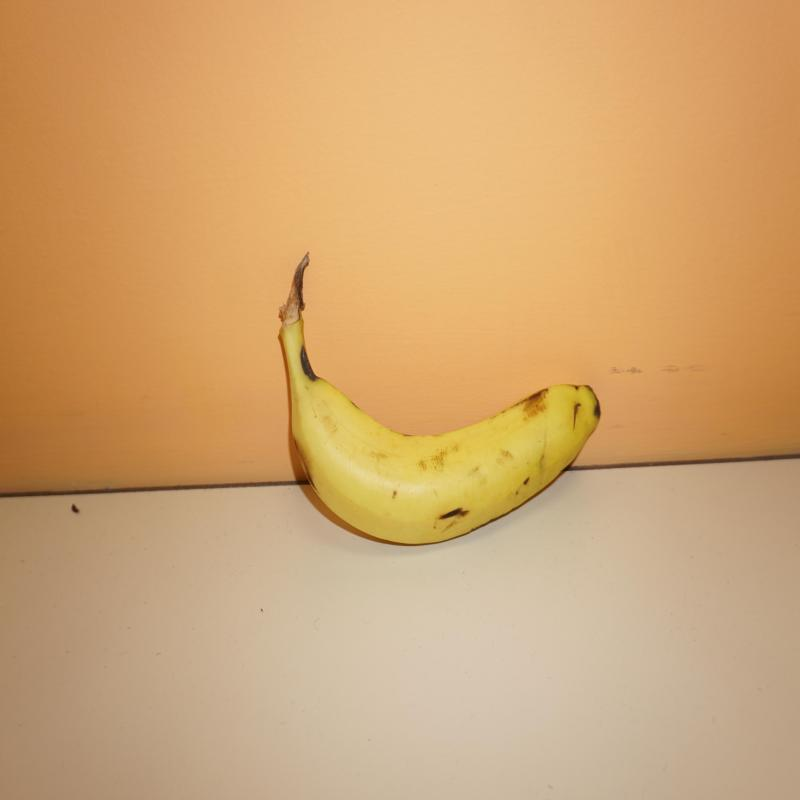Banana: (277, 260, 602, 548)
